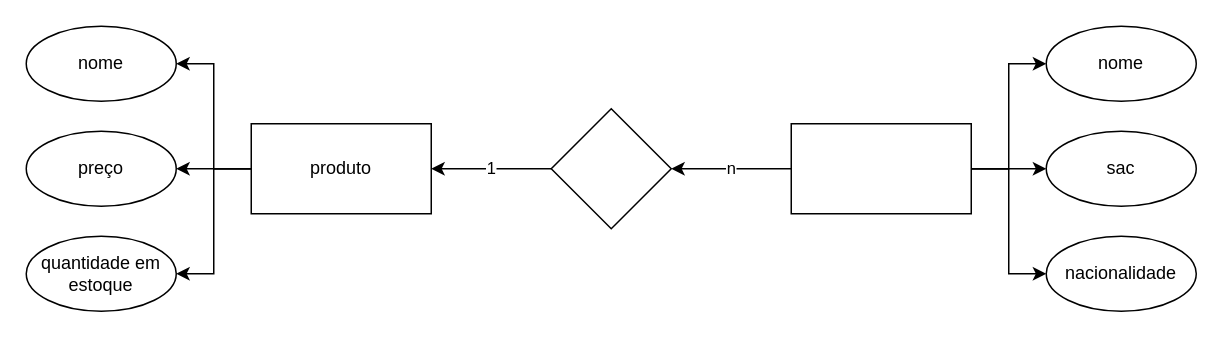
This 1223x338 diagram has some shape labels left out. Each missing label, with the centre of its shape:
marca: point 880,168
possui: point 610,168
